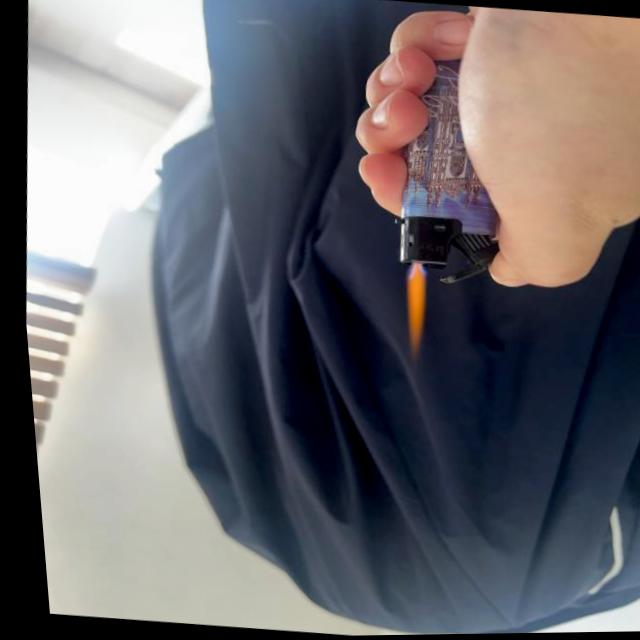helmet: (394, 263, 429, 353)
